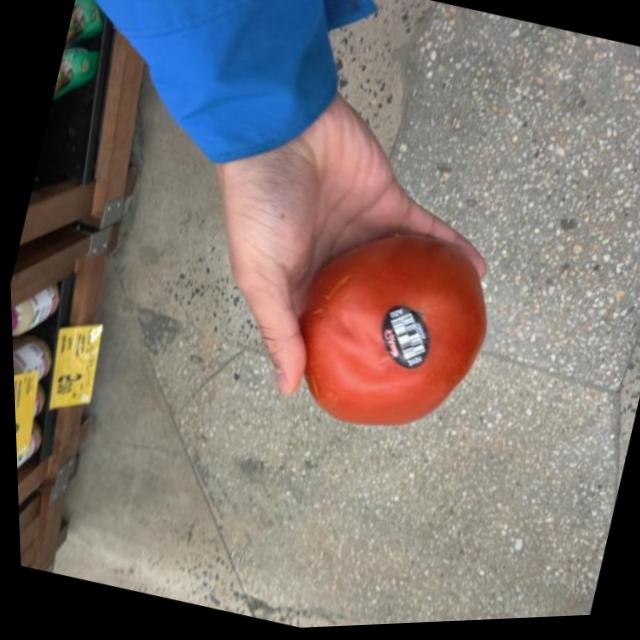Tomatoes: (271, 202, 523, 456)
